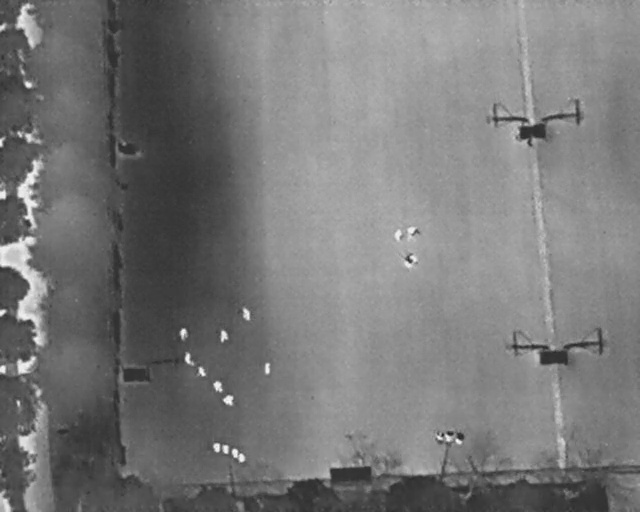Person: (403, 253, 418, 271), (406, 226, 420, 242), (185, 351, 195, 365), (220, 329, 229, 344), (179, 327, 188, 342), (196, 365, 207, 377), (223, 393, 234, 405), (394, 229, 404, 242), (242, 307, 251, 321), (213, 379, 222, 393), (264, 362, 272, 375)
